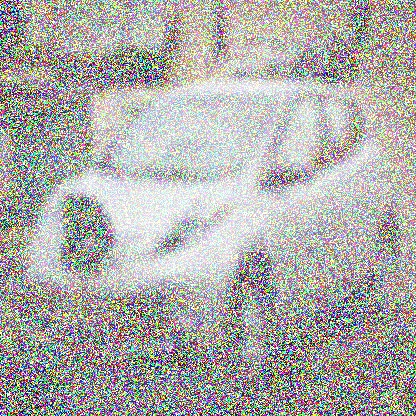Vehicle: (14, 55, 403, 399)
